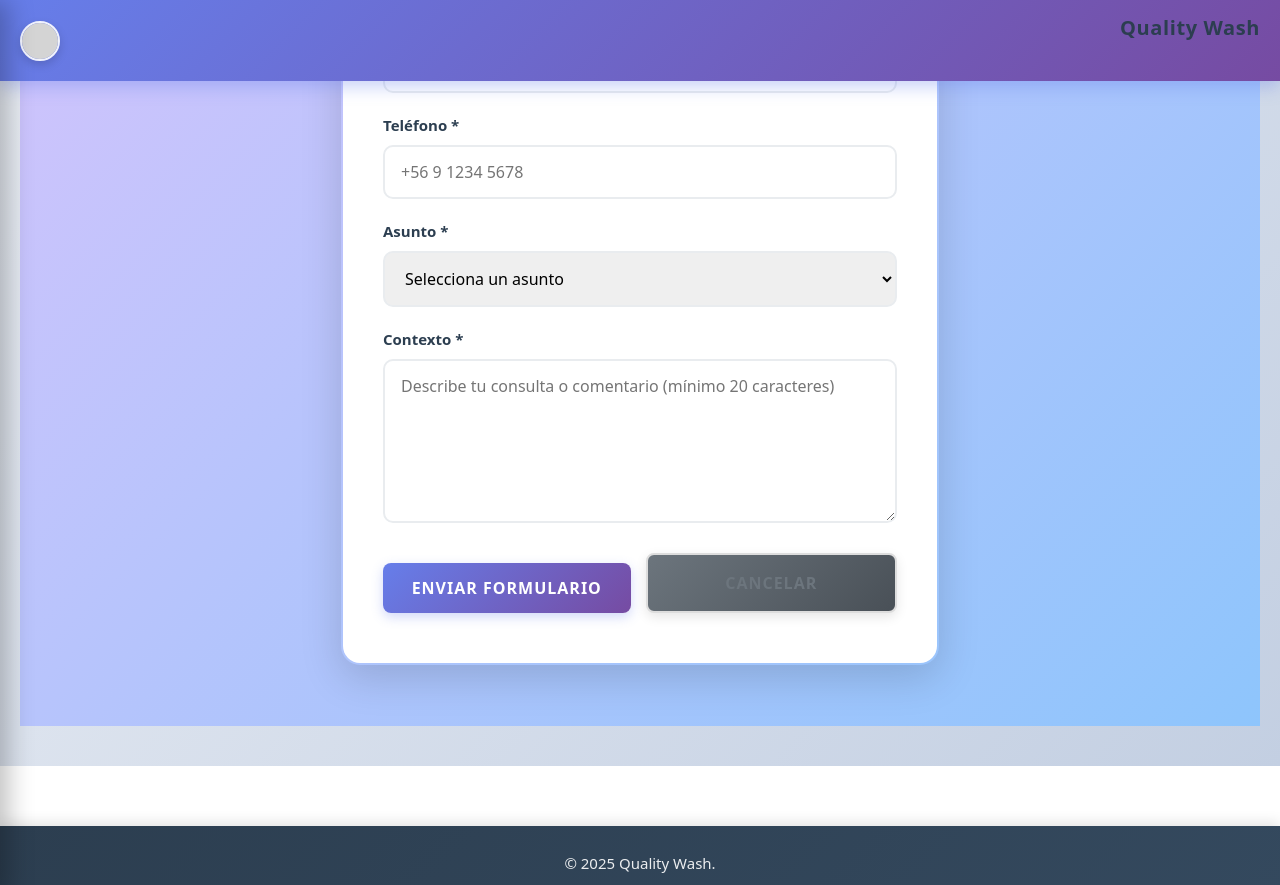
Scenario: Contacto Component › Validación de campos vacíos › muestra error cuando el RUT está vacío
(page scrolled)
Click the button "Enviar Formulario". click: point(507, 588)
box: x1=383 y1=563 x2=630 y2=613
(page scrolled)
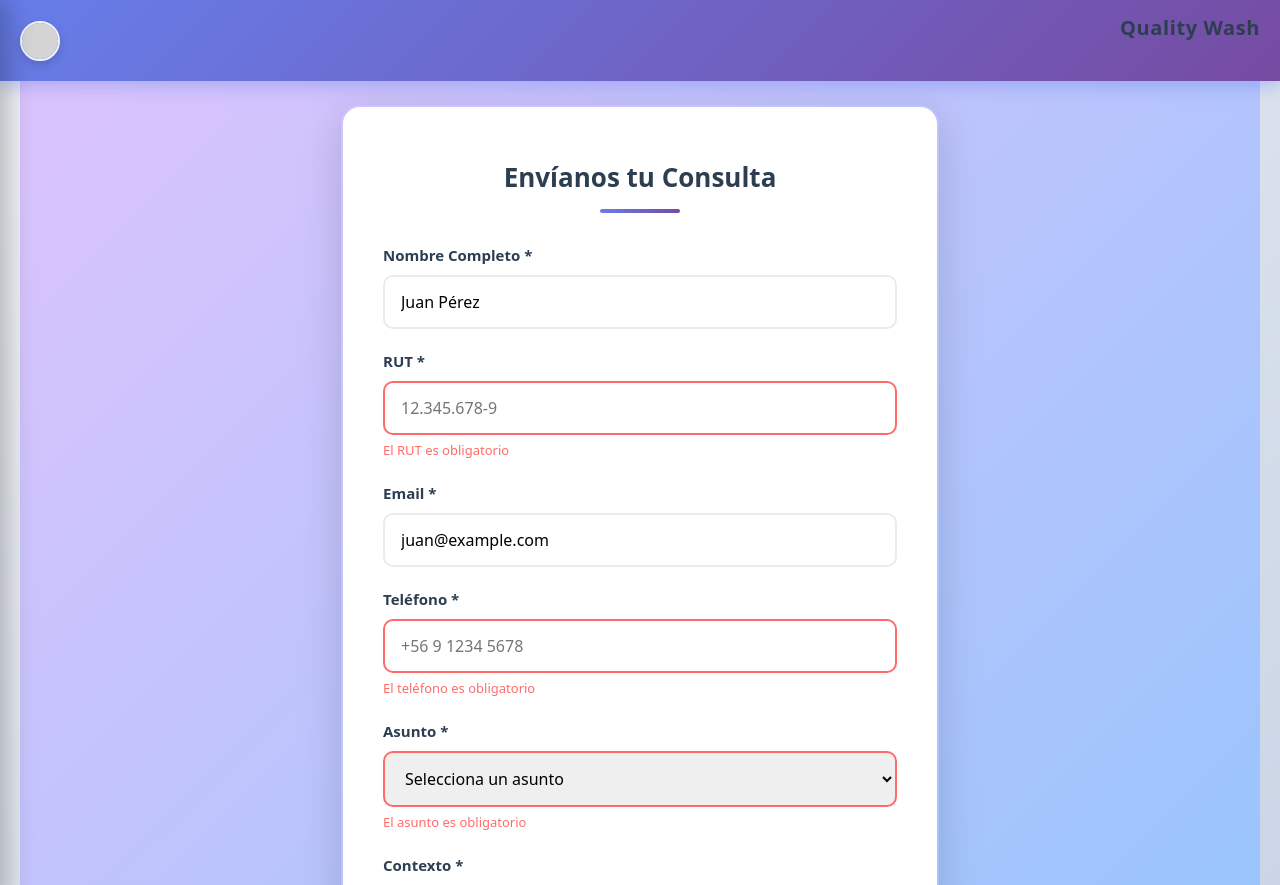
Expected: the text "El RUT es obligatorio" is shown, x1=383 y1=441 x2=509 y2=459
